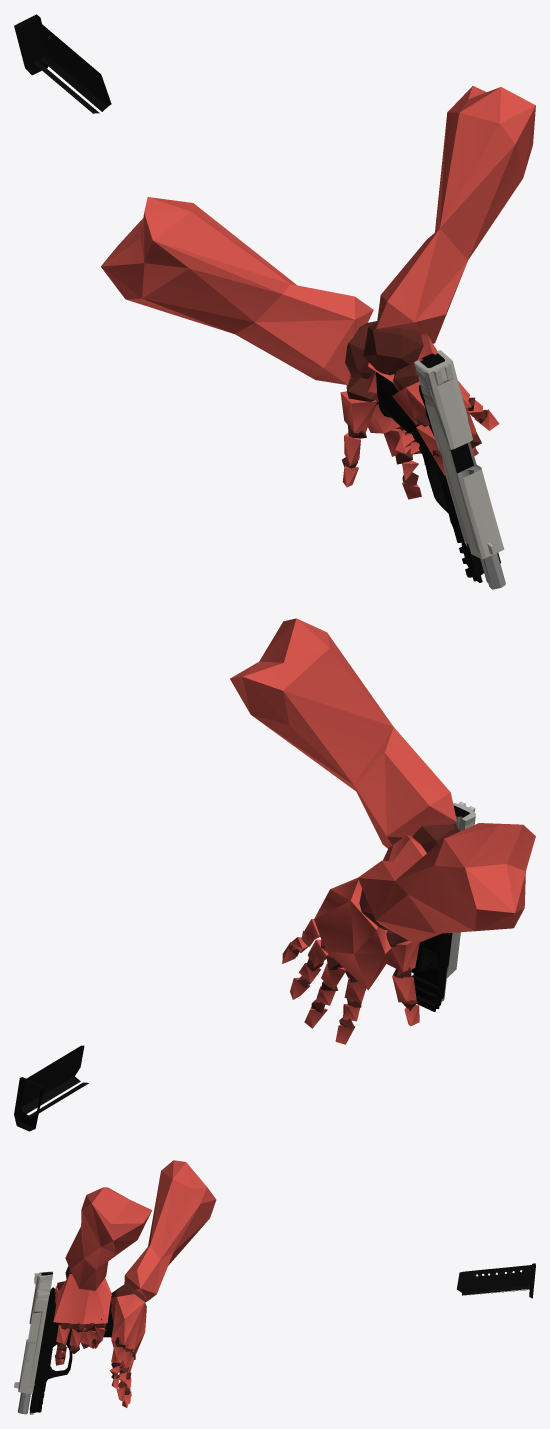
Rendered from M&P9reloadNormal1lowP_000143.obj.
3 renders of one model, top to bottom at view 1: azimuth 30°, elevation 25°; view 2: azimuth 150°, elevation 25°; view 3: azimuth 270°, elevation 25°, orthographic. The views are drawn at different scales.
Visible parts, largest first — view 1: Beta_Surface.001_Beta_Surface.002, slide_平面.002, Beta_Joints.001_Beta_Joints.002, triger_平面.001, magazine_平面.003; view 2: Beta_Surface.001_Beta_Surface.002, magazine_平面.003, Beta_Joints.001_Beta_Joints.002, triger_平面.001, slide_平面.002; view 3: Beta_Surface.001_Beta_Surface.002, triger_平面.001, slide_平面.002, magazine_平面.003, Beta_Joints.001_Beta_Joints.002.
Part boxes in pixels (x1,y1,x2,y2): Beta_Surface.001_Beta_Surface.002: (101, 86, 535, 499); slide_平面.002: (414, 350, 504, 559); Beta_Joints.001_Beta_Joints.002: (342, 321, 487, 486); triger_平面.001: (374, 371, 505, 589); magazine_平面.003: (14, 14, 111, 113); Beta_Surface.001_Beta_Surface.002: (230, 618, 535, 1044); magazine_平面.003: (14, 1045, 88, 1131); Beta_Joints.001_Beta_Joints.002: (288, 823, 459, 1027); triger_平面.001: (411, 933, 452, 1011); slide_平面.002: (446, 801, 475, 978); Beta_Surface.001_Beta_Surface.002: (53, 1160, 216, 1407); triger_平面.001: (17, 1287, 113, 1414); slide_平面.002: (14, 1271, 52, 1394); magazine_平面.003: (457, 1263, 535, 1298); Beta_Joints.001_Beta_Joints.002: (55, 1266, 145, 1394).
Bounding box in the file's own units: 61.54 × 71.74 × 137.
